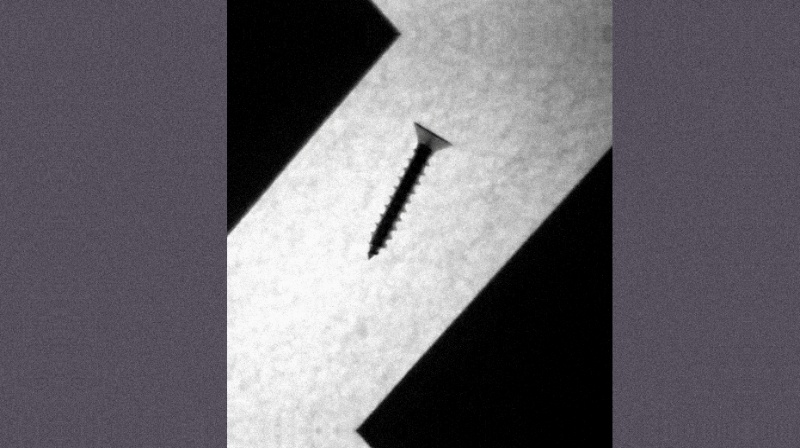S001: (365, 117, 456, 262)
